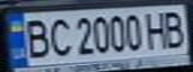0: (90, 12, 112, 55), (124, 11, 145, 52), (109, 11, 127, 53)
2: (72, 14, 93, 56)
B: (18, 16, 51, 60), (160, 8, 190, 50)
C: (45, 15, 72, 58)
H: (142, 8, 172, 51)
